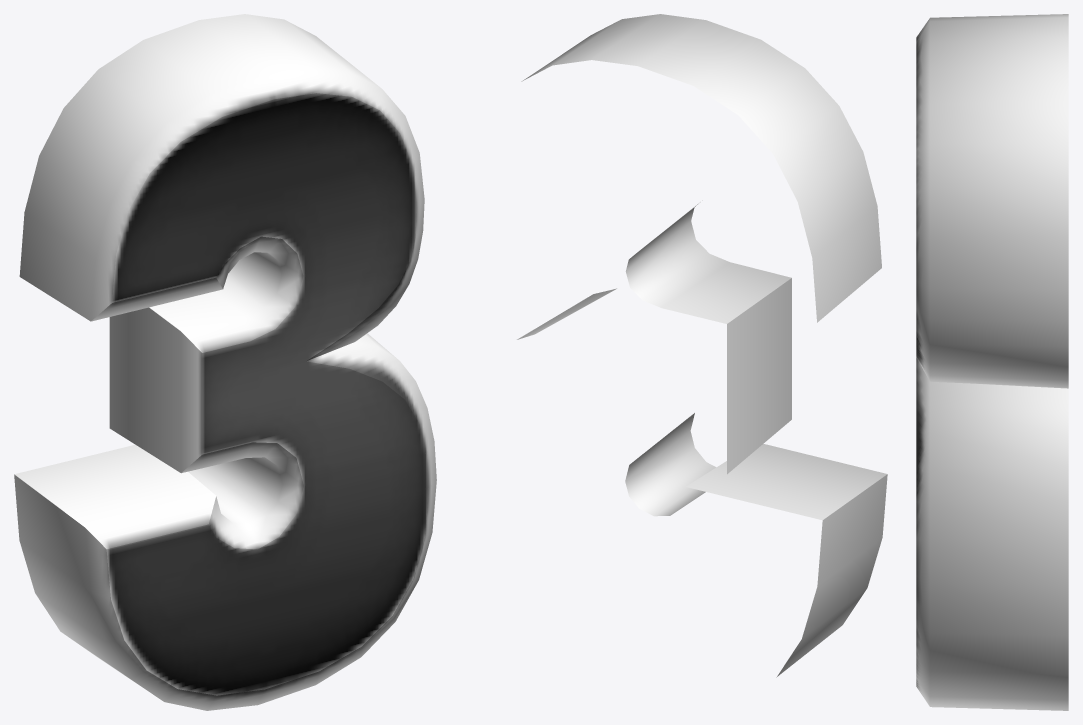
File: bbl_score_model__score_3b.glb
The picture shows the model from 3 angles, left to right: view 1: azimuth 30°, elevation 25°; view 2: azimuth 150°, elevation 25°; view 3: azimuth 270°, elevation 25°; orthographic projection.
Parts seen in each view (by area): view 1: polygon1, polygon0; view 2: polygon0; view 3: polygon0.
Part boxes in pixels (left/top/right/bottom): polygon1: left=106, top=93, right=428, bottom=695; polygon0: left=14, top=14, right=436, bottom=710; polygon0: left=517, top=14, right=887, bottom=677; polygon0: left=916, top=14, right=1068, bottom=710.
Bounding box in the file's own units: 3.03 × 5.16 × 1.1.
2 materials, 2 textured.
